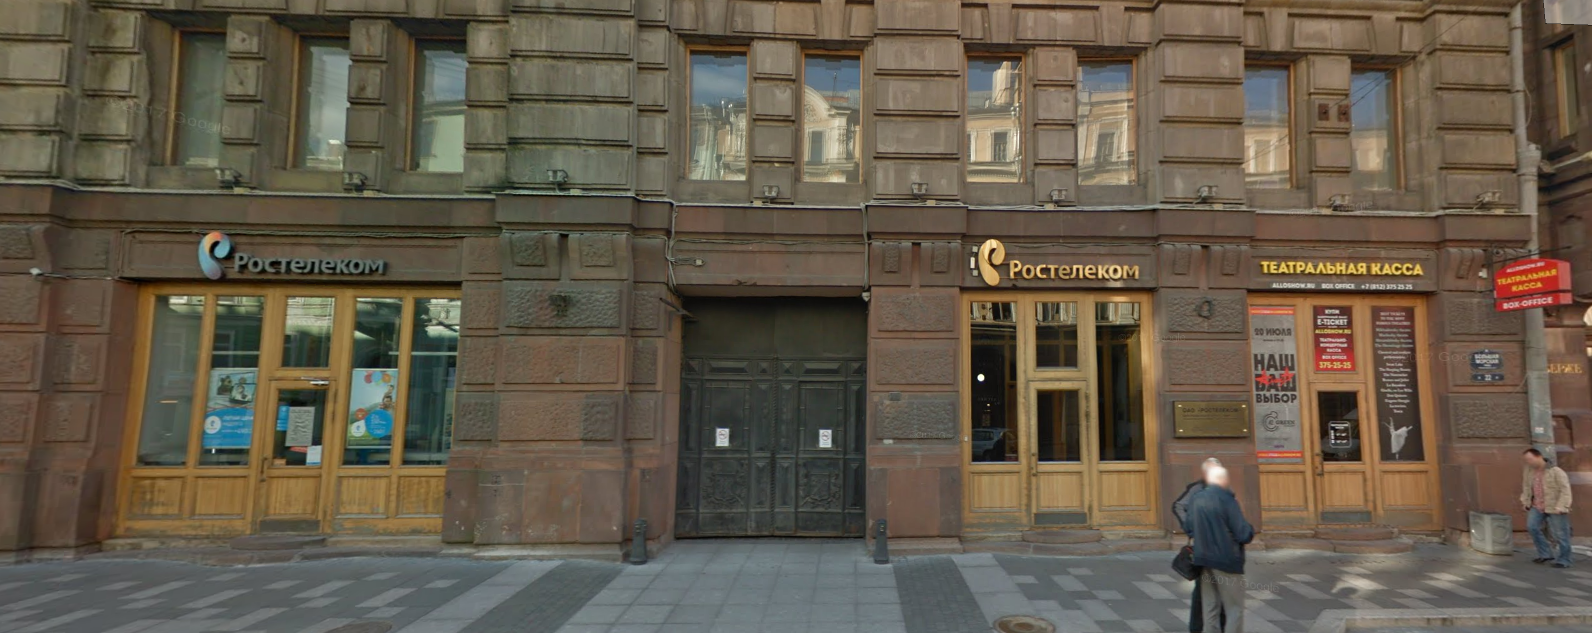arch: (670, 286, 869, 545)
cantilever: (1480, 244, 1574, 312)
door: (1026, 383, 1094, 533), (1310, 382, 1371, 529), (265, 376, 320, 537)
signboard: (199, 230, 388, 281), (967, 234, 1139, 290), (1256, 252, 1427, 293)
window: (140, 289, 450, 463), (971, 298, 1151, 463), (1257, 295, 1427, 465), (157, 23, 227, 168), (408, 41, 474, 174), (965, 43, 1027, 182), (1242, 55, 1304, 189), (294, 30, 349, 175), (693, 49, 751, 185), (1344, 58, 1401, 196), (808, 47, 863, 190), (1077, 53, 1134, 186)
